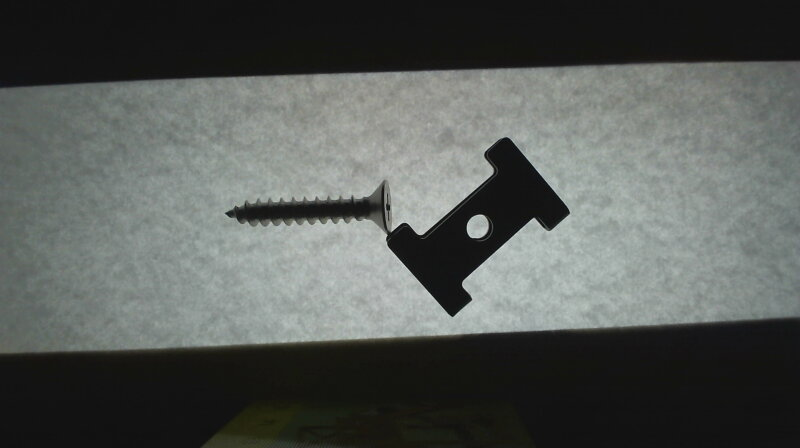O002: (385, 133, 572, 318)
S001: (219, 177, 394, 236)
